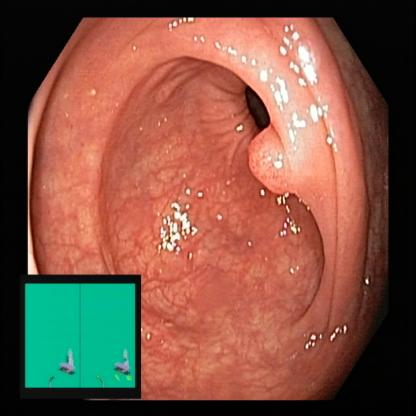Labels: (23, 272, 142, 396)
Polyps: (240, 119, 316, 204)
